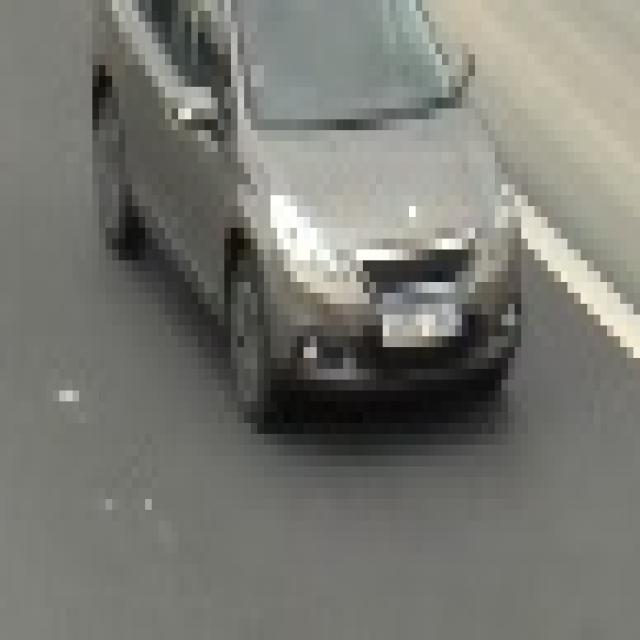SUV: (92, 0, 502, 391)
